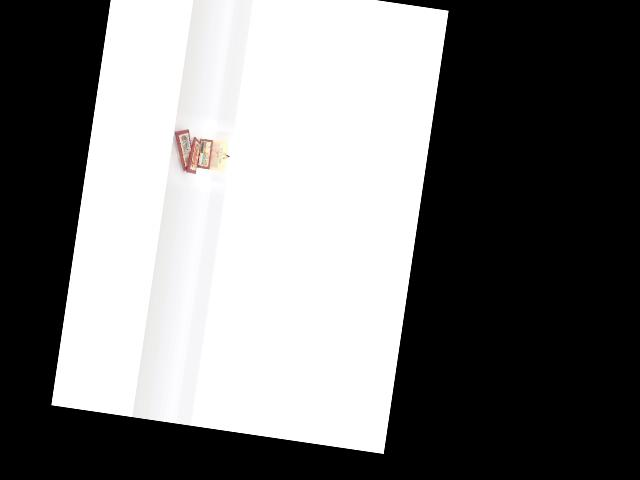chocolate: (165, 118, 197, 174)
